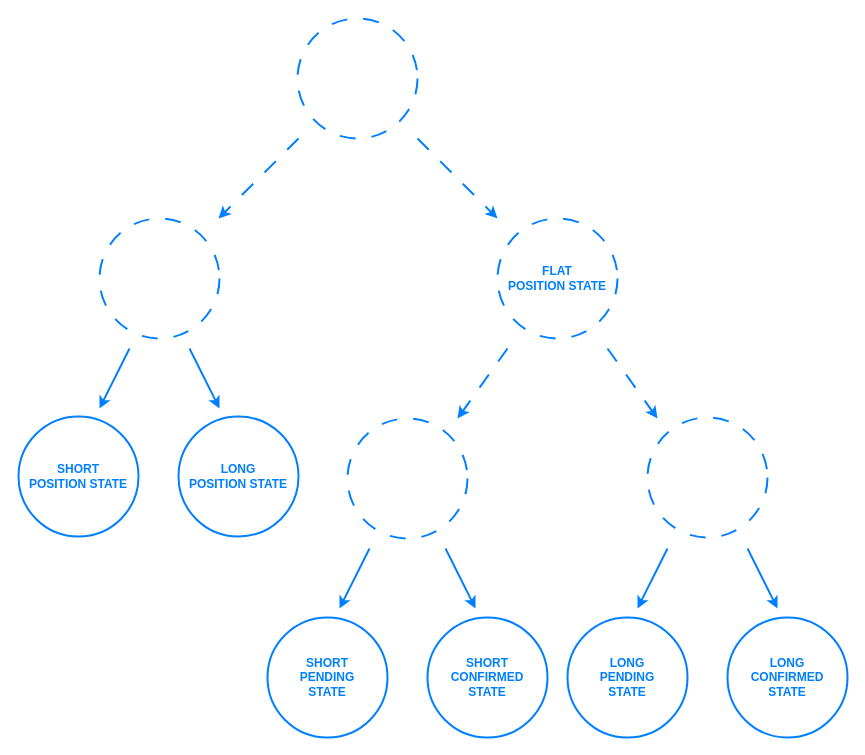
This 865x755 diagram has some shape labels left out. The shapes that lost their labels are listed below. From the top down, each one's box as (x1, y1, x2, y2) in pixels, then its label:
(296, 17, 418, 139): POSITION STATE
(98, 217, 220, 339): ACTIVE POSITION STATE
(346, 417, 468, 539): SHORT BASE
(646, 416, 768, 538): LONG BASE
